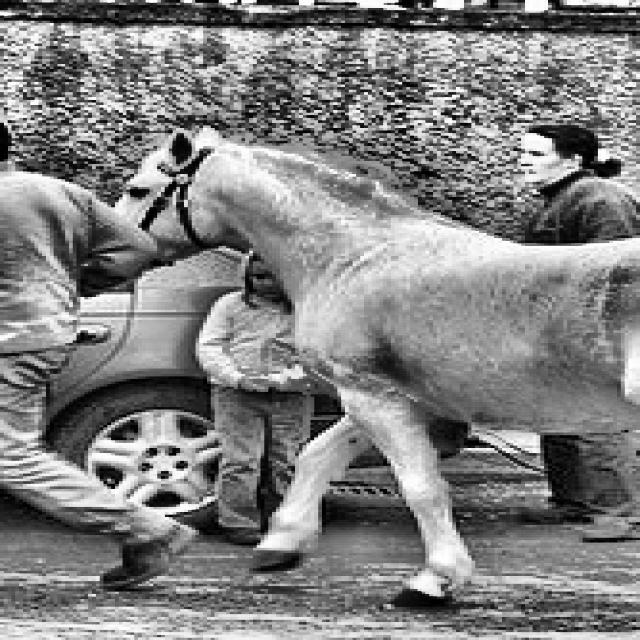light_vehicle: (0, 169, 471, 540)
